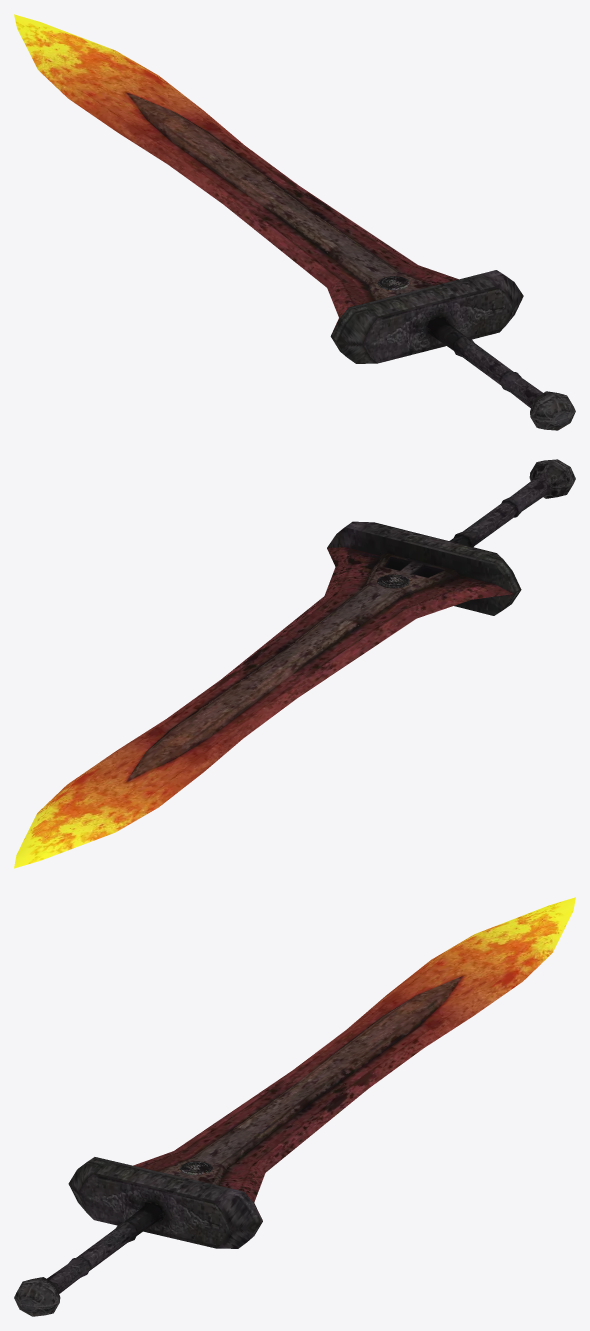
The model's file is sword_l_yatsuka_sword_l_mihananotsurugi_2_s.glb.
3 views of the same model, one above another, from view 1: azimuth 30°, elevation 25°; view 2: azimuth 150°, elevation 25°; view 3: azimuth 330°, elevation 25° (orthographic).
Bounding box in the file's own units: 1.02 × 0.2731 × 5.17.
Materials: 1 (1 with a texture image).
